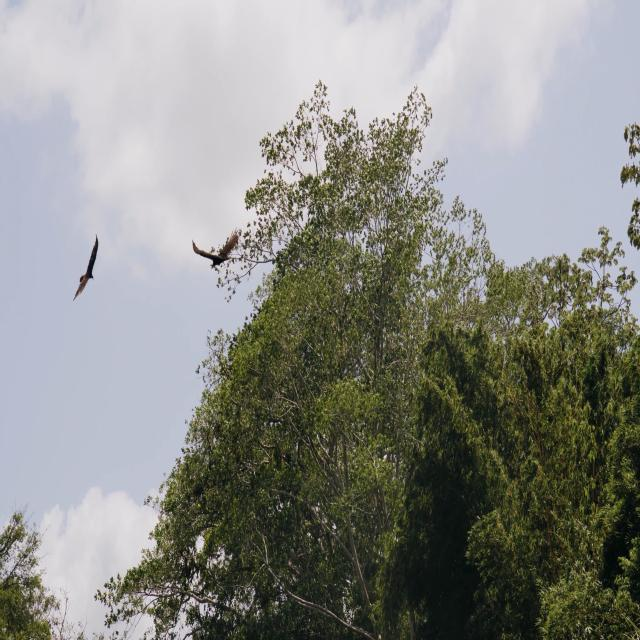bird: (191, 226, 242, 270), (72, 232, 99, 302)
